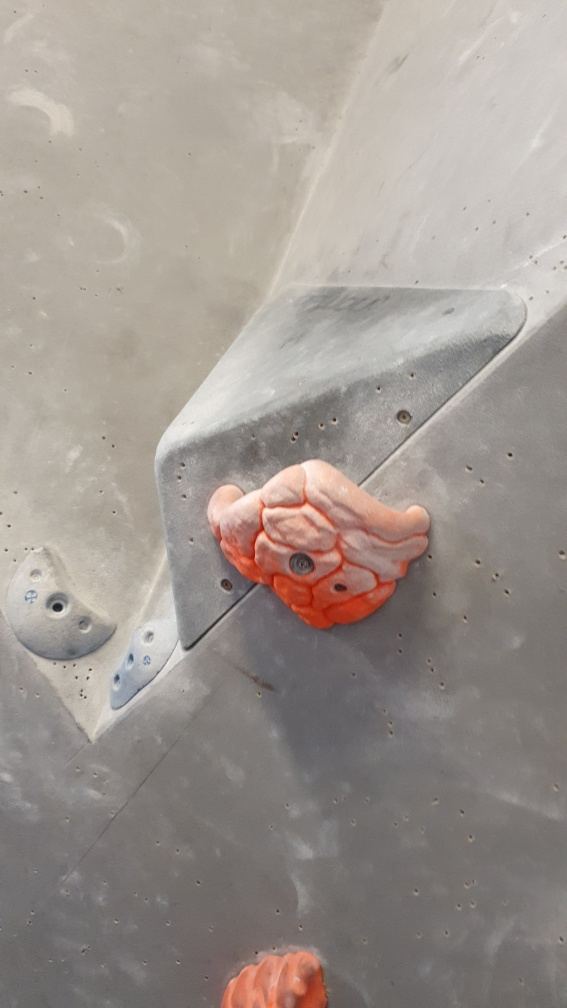Jug: (206, 458, 435, 630)
